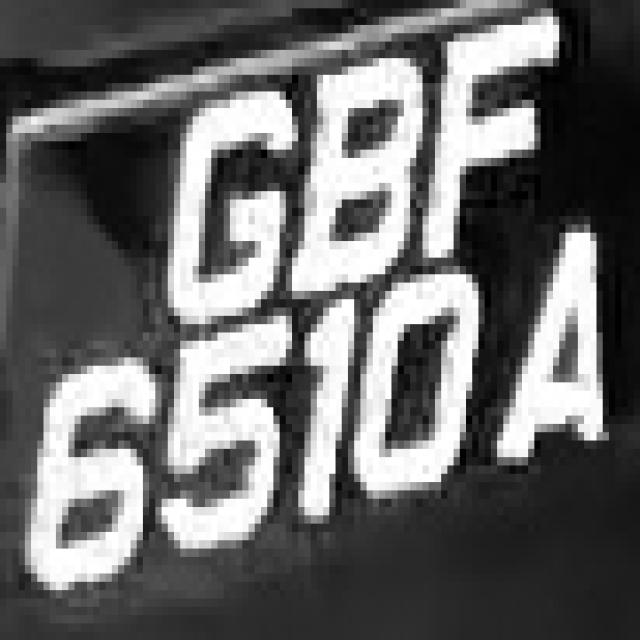0: (342, 258, 491, 540)
1: (286, 291, 366, 557)
5: (155, 299, 292, 574)
6: (19, 341, 155, 590)
A: (504, 200, 622, 498)
B: (292, 58, 416, 291)
F: (429, 25, 553, 249)
G: (149, 83, 292, 316)
